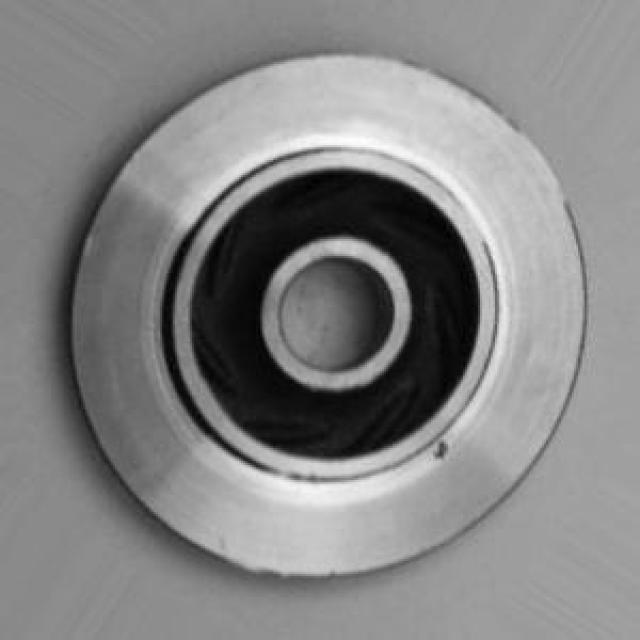Defect: (428, 437, 458, 462)
